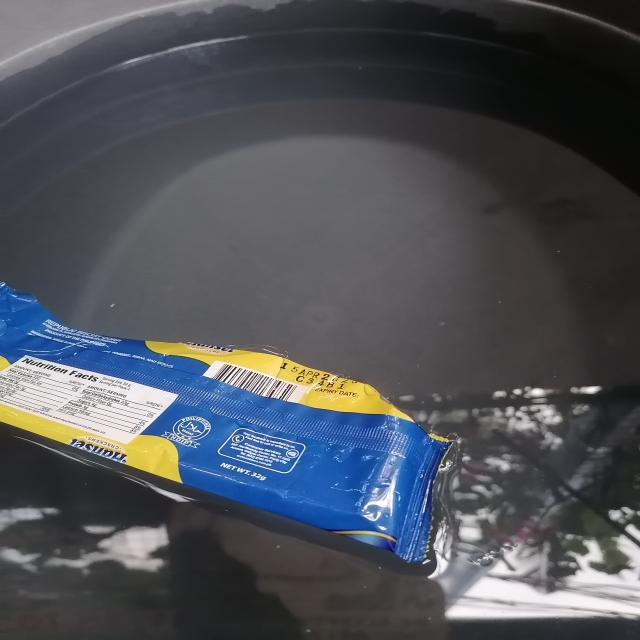Plastic Wrapper: (0, 282, 457, 580)
